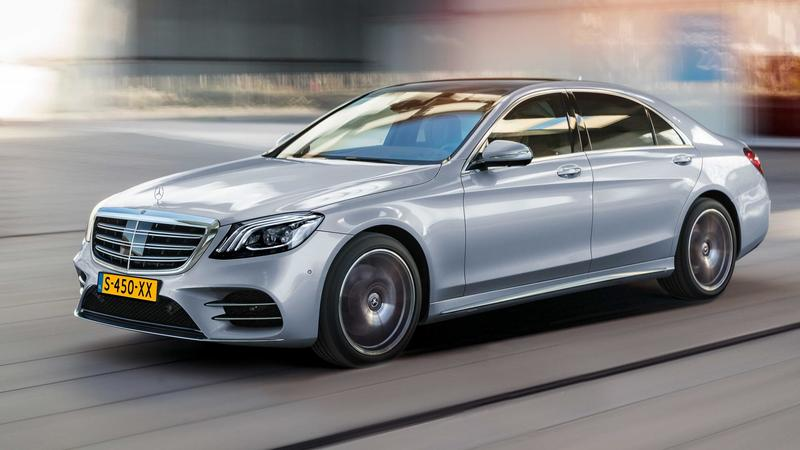kenteken: (92, 272, 164, 305)
